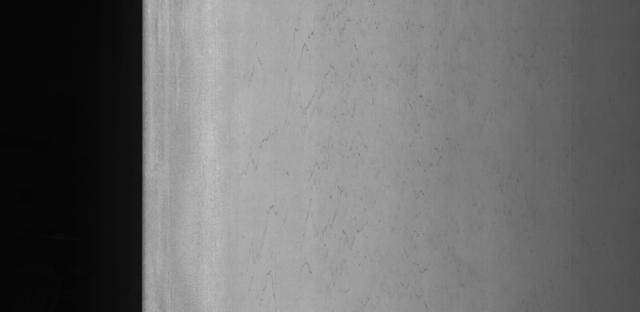silk_spot: (279, 11, 419, 148)
